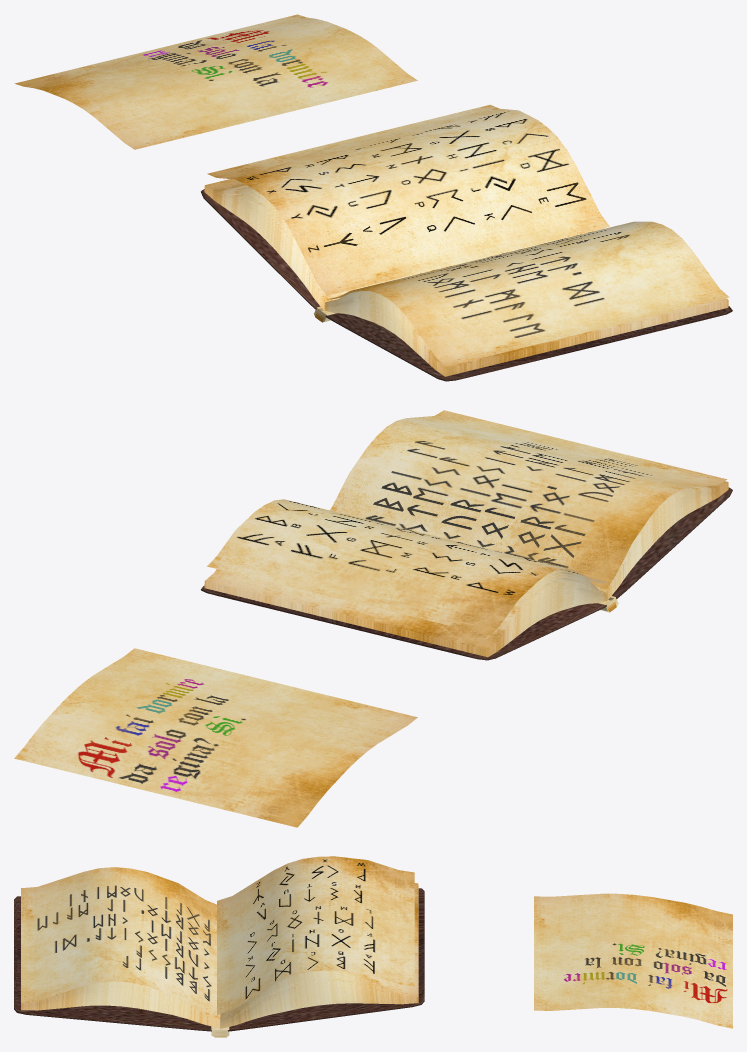
Rendered from Runico.fbx.
3 views of the same model, one above another, from view 1: azimuth 30°, elevation 25°; view 2: azimuth 150°, elevation 25°; view 3: azimuth 270°, elevation 25° (orthographic). The views are drawn at different scales.
Parts seen in each view (by area): view 1: page76.002, page76.001, page37, book_cover_rightside, book_cover_leftside, page76, page35; view 2: page37, page76.001, page76.002, page35, book_cover_leftside, book_cover_rightside; view 3: page37, page76.002, page76.001, book_cover_rightside, book_cover_leftside, page35, page32, page34, page0, page76, page55, page33 (+4 smaller).
Boxes of the visible parts, bbox=[...] form: page76.002: bbox=[207, 104, 609, 295]; page76.001: bbox=[327, 221, 729, 366]; page37: bbox=[14, 14, 417, 149]; book_cover_rightside: bbox=[325, 306, 732, 381]; book_cover_leftside: bbox=[201, 189, 320, 309]; page76: bbox=[326, 290, 727, 369]; page35: bbox=[205, 179, 604, 303]; page37: bbox=[14, 648, 417, 827]; page76.001: bbox=[330, 410, 727, 588]; page76.002: bbox=[207, 499, 609, 635]; page35: bbox=[205, 569, 605, 650]; book_cover_leftside: bbox=[201, 585, 606, 660]; book_cover_rightside: bbox=[612, 487, 732, 598]; page37: bbox=[534, 893, 732, 1028]; page76.002: bbox=[217, 856, 414, 1014]; page76.001: bbox=[21, 867, 220, 1019]; book_cover_rightside: bbox=[14, 896, 211, 1031]; book_cover_leftside: bbox=[228, 888, 424, 1031]; page35: bbox=[220, 883, 418, 1022]; page32: bbox=[221, 977, 413, 1022]; page34: bbox=[220, 973, 417, 1022]; page0: bbox=[221, 1001, 418, 1028]; page76: bbox=[21, 981, 220, 1021]; page55: bbox=[21, 990, 219, 1025]; page33: bbox=[221, 975, 415, 1022].
Size of the model in its own units: 21.73 by 5.54 by 55.71.
